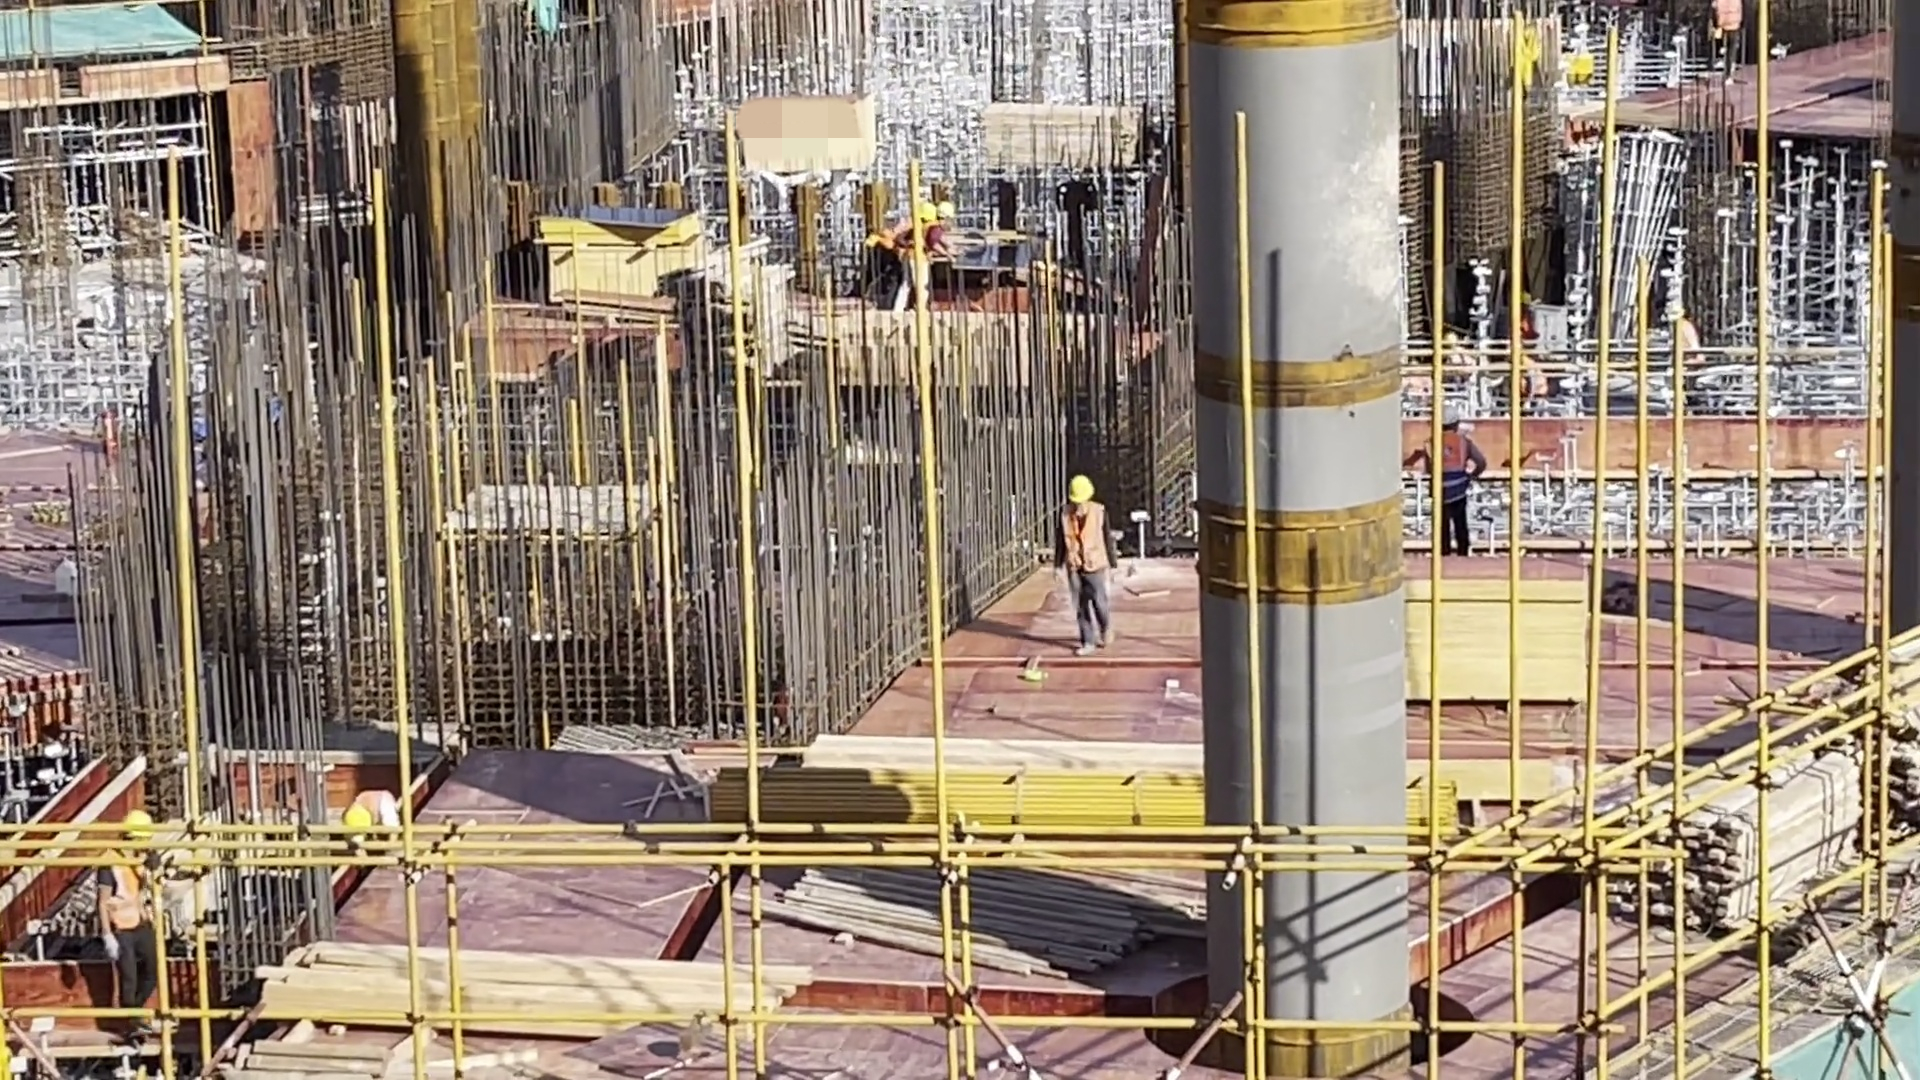helmet: (113, 808, 151, 849), (1062, 469, 1093, 506), (337, 798, 366, 836), (1432, 404, 1462, 435)
person: (104, 798, 181, 1027), (1052, 474, 1126, 650), (1411, 408, 1489, 562), (332, 786, 422, 855), (1653, 302, 1714, 402), (886, 199, 936, 312), (1500, 339, 1553, 417), (1705, 1, 1748, 85), (929, 197, 955, 263)
vest: (1052, 504, 1122, 575), (1418, 442, 1485, 505), (1708, 1, 1741, 36)
wood: (777, 824, 1148, 993), (1605, 743, 1865, 925)
